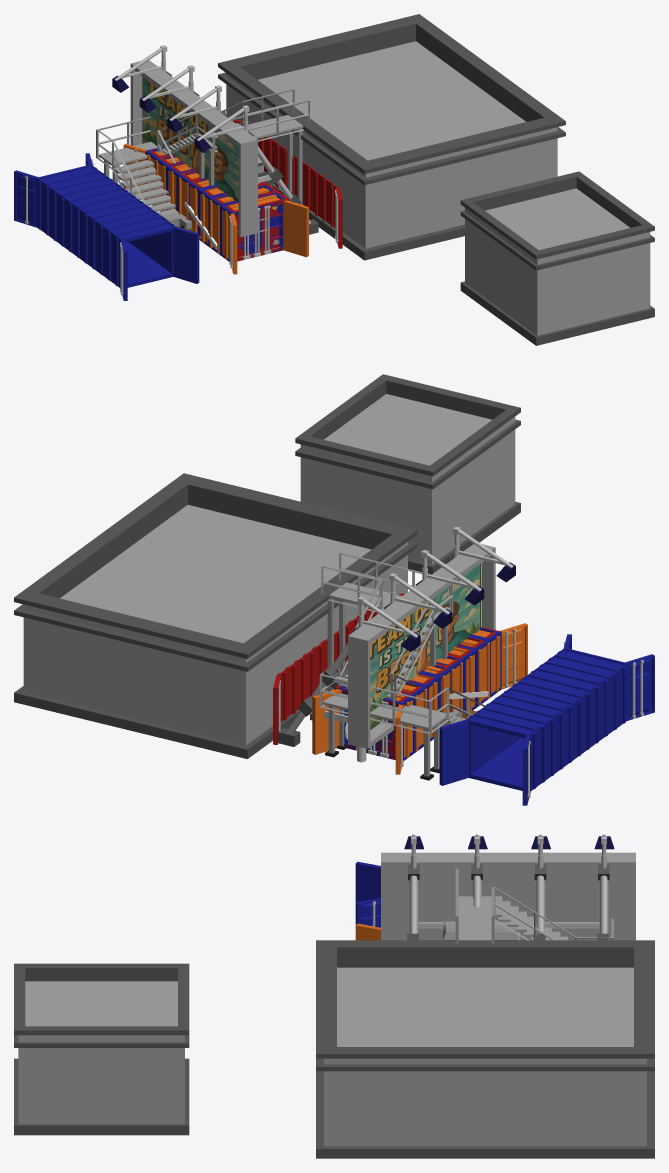
File: Map2SmallObjects.fbx
3 renders of one model, top to bottom at view 1: azimuth 30°, elevation 25°; view 2: azimuth 150°, elevation 25°; view 3: azimuth 270°, elevation 25°, orthographic. The views are drawn at different scales.
Visible parts, largest first — view 1: Shed1, Shed2, BlueContainerOpen, BillBoard1, Stairs, OrangeContainerOpen, BlueContainer, RedContainerOpen, RedContainer; view 2: Shed1, Shed2, BlueContainerOpen, BillBoard1, Stairs, OrangeContainerOpen, RedContainerOpen, BlueContainer, RedContainer; view 3: Shed1, Shed2, BillBoard1, Stairs, BlueContainerOpen, ShedDoor.
Boxes of the visible parts, x1,y1,x2,y2 form: Shed1: (218,14,565,260); Shed2: (460,171,654,345); BlueContainerOpen: (14,153,199,300); BillBoard1: (112,45,318,236); Stairs: (96,89,309,216); OrangeContainerOpen: (123,143,308,274); BlueContainer: (145,146,286,261); RedContainerOpen: (233,119,342,248); RedContainer: (149,147,289,261); Shed1: (14,473,417,758); Shed2: (295,374,520,574); BlueContainerOpen: (439,634,654,805); BillBoard1: (278,526,515,762); Stairs: (319,552,485,780); OrangeContainerOpen: (312,623,527,774); RedContainerOpen: (273,593,404,744); BlueContainer: (338,628,501,760); RedContainer: (334,627,497,759); Shed1: (316,940,654,1158); Shed2: (14,963,189,1135); BillBoard1: (381,834,635,940); Stairs: (455,868,613,943); BlueContainerOpen: (355,861,380,927); ShedDoor: (443,921,517,940).
Bounding box in the file's own units: 7272 × 2478 × 8223.
